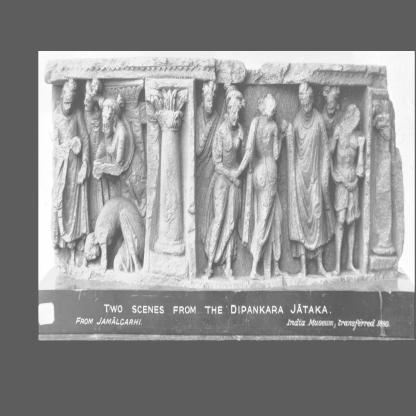buddha-standing: (282, 82, 334, 276), (52, 78, 90, 259)
